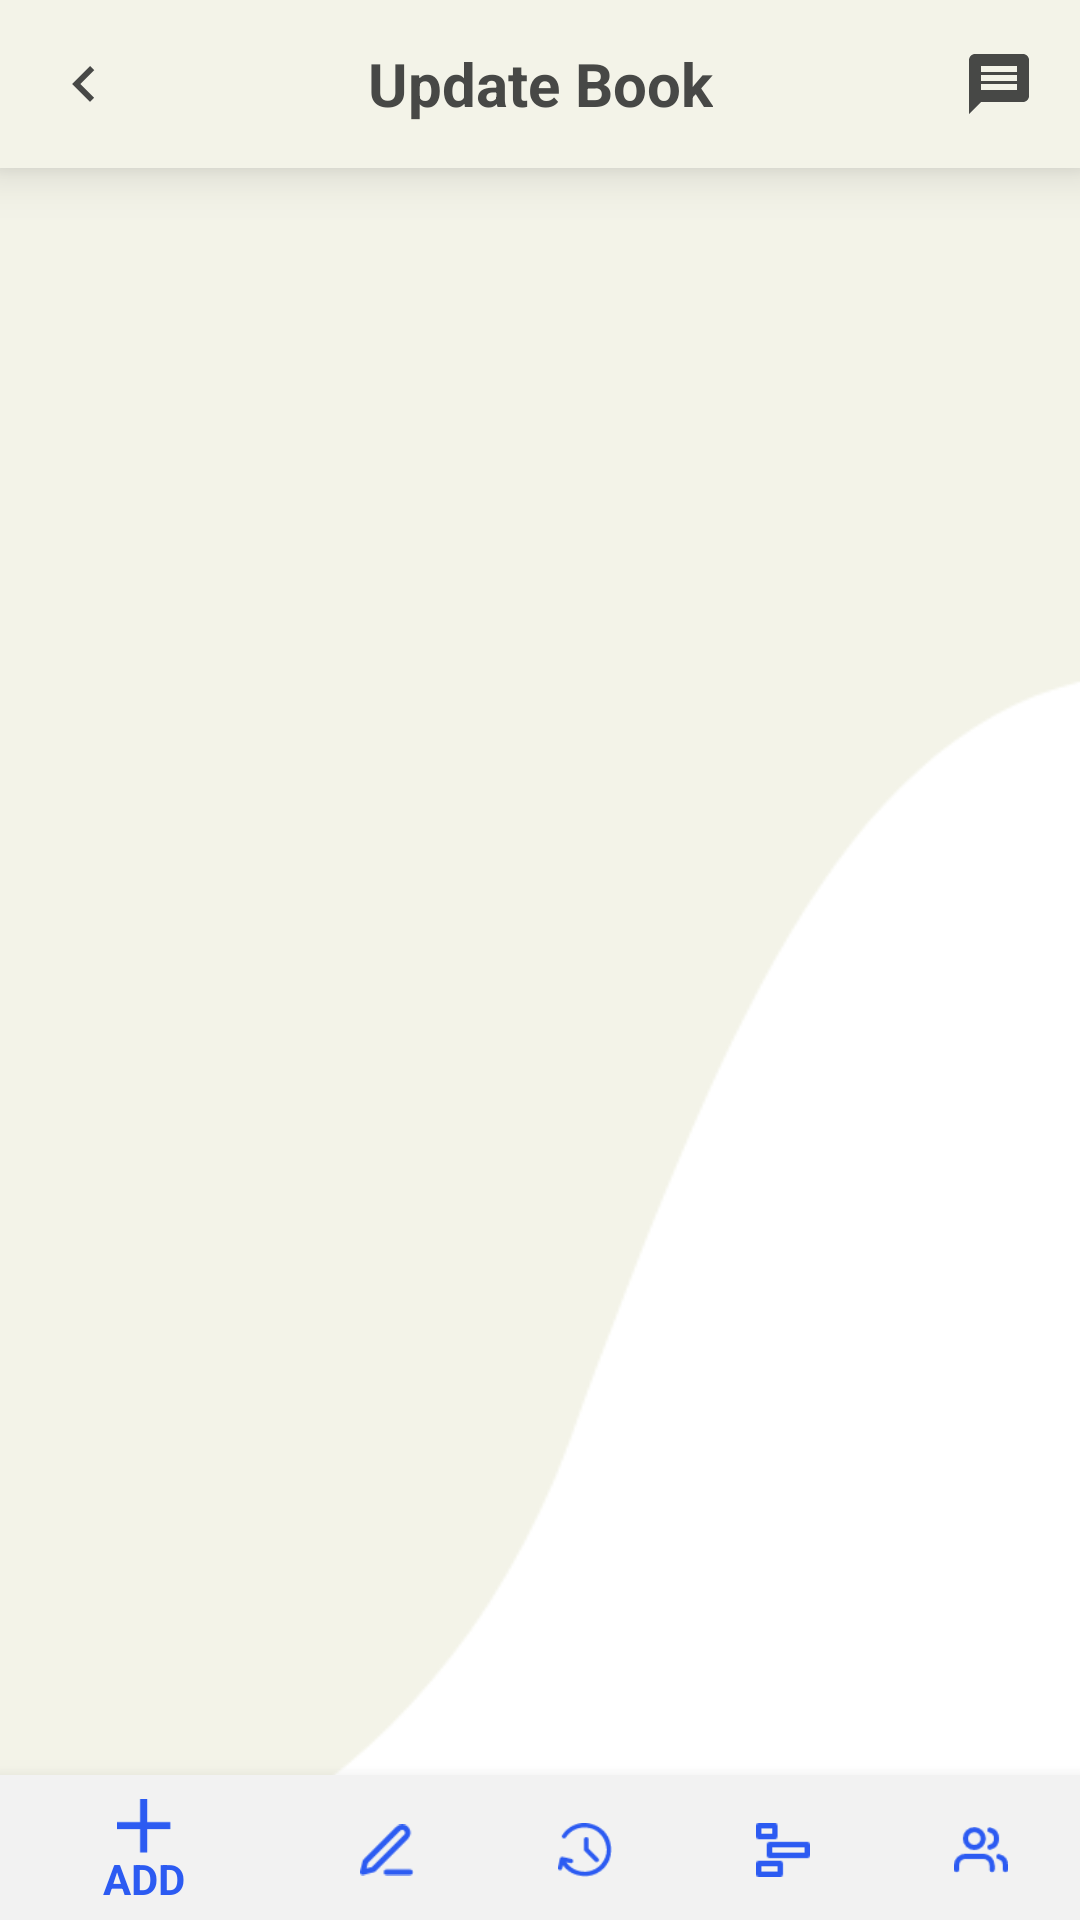

Screen size 1080x1920. Icon name, then its center in pixels as [x,y]:
arrow left: [83,84]
message: [999,84]
